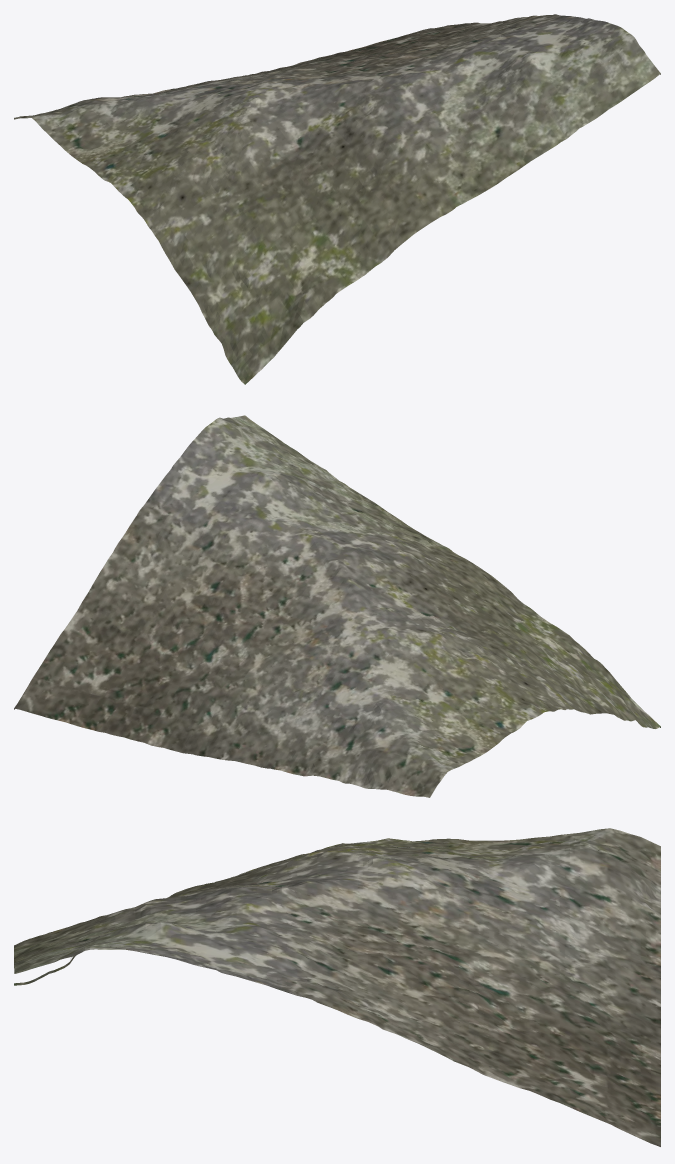
3 views of the same model, one above another, from view 1: azimuth 30°, elevation 25°; view 2: azimuth 150°, elevation 25°; view 3: azimuth 270°, elevation 25° (orthographic). The views are drawn at different scales.
Size of the model in its own units: 250 by 131 by 241.
Materials: 1 (1 with a texture image).
